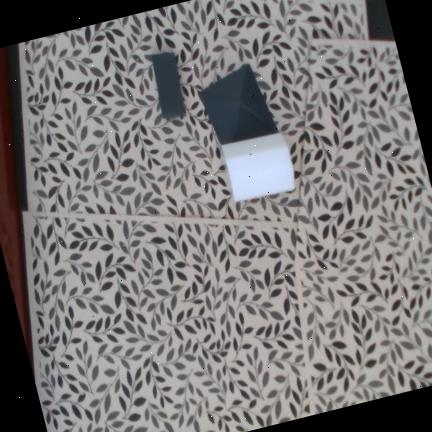Paralelepipedo: (151, 51, 186, 119)
Piramide: (198, 63, 278, 145)
Prisma_hexagonal: (220, 131, 295, 202)
